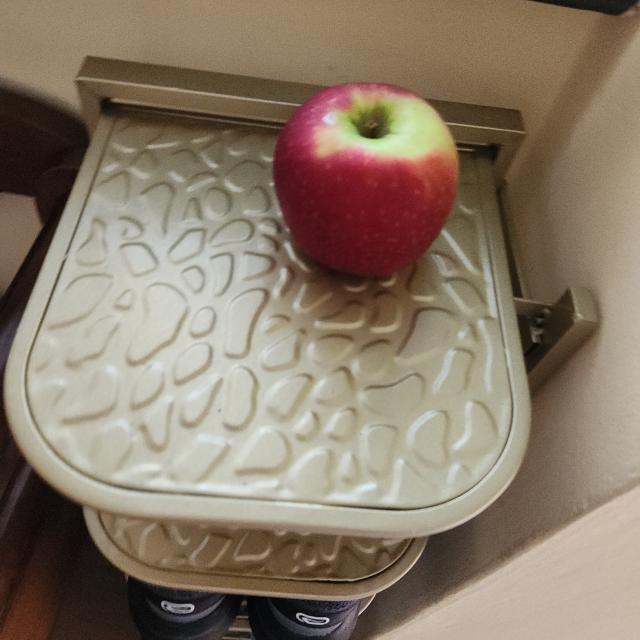apple: (268, 77, 467, 287)
